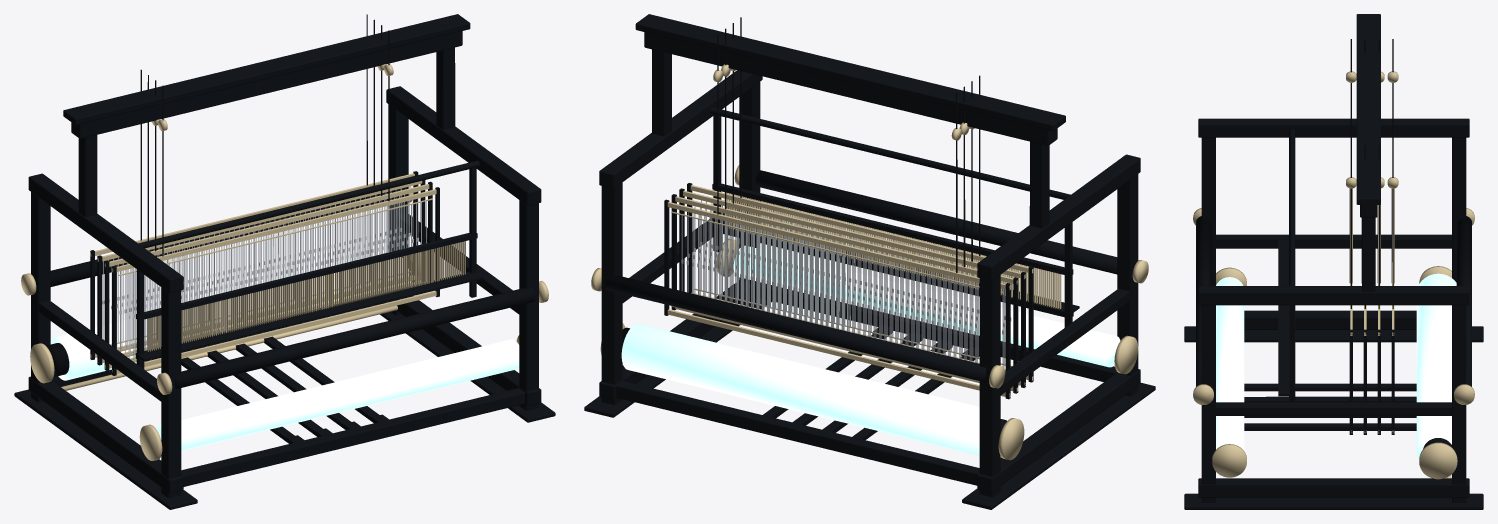
The model's file is loom.glb.
3 views of the same model, side by side, from view 1: azimuth 30°, elevation 25°; view 2: azimuth 150°, elevation 25°; view 3: azimuth 270°, elevation 25° (orthographic). The views are drawn at different scales.
Parts seen in each view (by area): view 1: Loom_Frame, Loom_ClothRoll, Beater_Reed, Beater_Frame, Loom_Beams, Shaft_1_Heddles, Shaft_2_Heddles, Shaft_3_Heddles, Shaft_3_Bars, Loom_WarpRoll, Shaft_0_Heddles, Loom_Caps (+12 smaller); view 2: Loom_Frame, Loom_WarpRoll, Loom_Beams, Beater_Frame, Loom_ClothRoll, Shaft_2_Heddles, Shaft_1_Heddles, Shaft_0_Heddles, Shaft_3_Heddles, Shaft_0_Bars, Beater_Reed, Loom_Caps (+11 smaller); view 3: Loom_Frame, Loom_WarpRoll, Loom_ClothRoll, Loom_Caps, Beater_Frame, Loom_Beams, Treadle_0, Treadle_3, Treadle_1, Shaft_3_Sides, Shaft_0_Sides, Shaft_1_Sides (+3 smaller).
Boxes of the visible parts, x1,y1,x2,y2 form: Loom_Frame: [14, 14, 555, 509]; Loom_ClothRoll: [156, 339, 519, 450]; Beater_Reed: [147, 241, 465, 351]; Beater_Frame: [135, 160, 483, 369]; Loom_Beams: [46, 191, 535, 389]; Shaft_1_Heddles: [111, 193, 410, 349]; Shaft_2_Heddles: [119, 199, 418, 354]; Shaft_3_Heddles: [128, 201, 426, 359]; Shaft_3_Bars: [112, 189, 436, 373]; Loom_WarpRoll: [50, 257, 410, 380]; Shaft_0_Heddles: [102, 188, 401, 342]; Loom_Caps: [21, 186, 548, 460]; Loom_Frame: [584, 14, 1155, 509]; Loom_WarpRoll: [621, 323, 1002, 455]; Loom_Beams: [605, 170, 1117, 432]; Beater_Frame: [710, 107, 1079, 327]; Loom_ClothRoll: [733, 245, 1120, 367]; Shaft_2_Heddles: [694, 206, 1009, 367]; Shaft_1_Heddles: [688, 212, 1003, 366]; Shaft_0_Heddles: [681, 215, 976, 362]; Shaft_3_Heddles: [700, 200, 1015, 363]; Shaft_0_Bars: [667, 202, 1010, 397]; Beater_Reed: [724, 192, 1061, 309]; Loom_Caps: [591, 165, 1148, 460]; Loom_Frame: [1184, 14, 1483, 509]; Loom_WarpRoll: [1416, 273, 1456, 460]; Loom_ClothRoll: [1216, 277, 1244, 450]; Loom_Caps: [1193, 208, 1474, 479]; Beater_Frame: [1278, 128, 1295, 416]; Loom_Beams: [1196, 216, 1471, 448]; Treadle_0: [1244, 383, 1416, 391]; Treadle_3: [1244, 423, 1416, 430]; Treadle_1: [1244, 396, 1416, 402]; Shaft_3_Sides: [1349, 39, 1352, 434]; Shaft_0_Sides: [1391, 39, 1394, 434]; Shaft_1_Sides: [1377, 39, 1380, 434].
Bounding box in the file's own units: 12.59 × 10.4 × 8.6.
